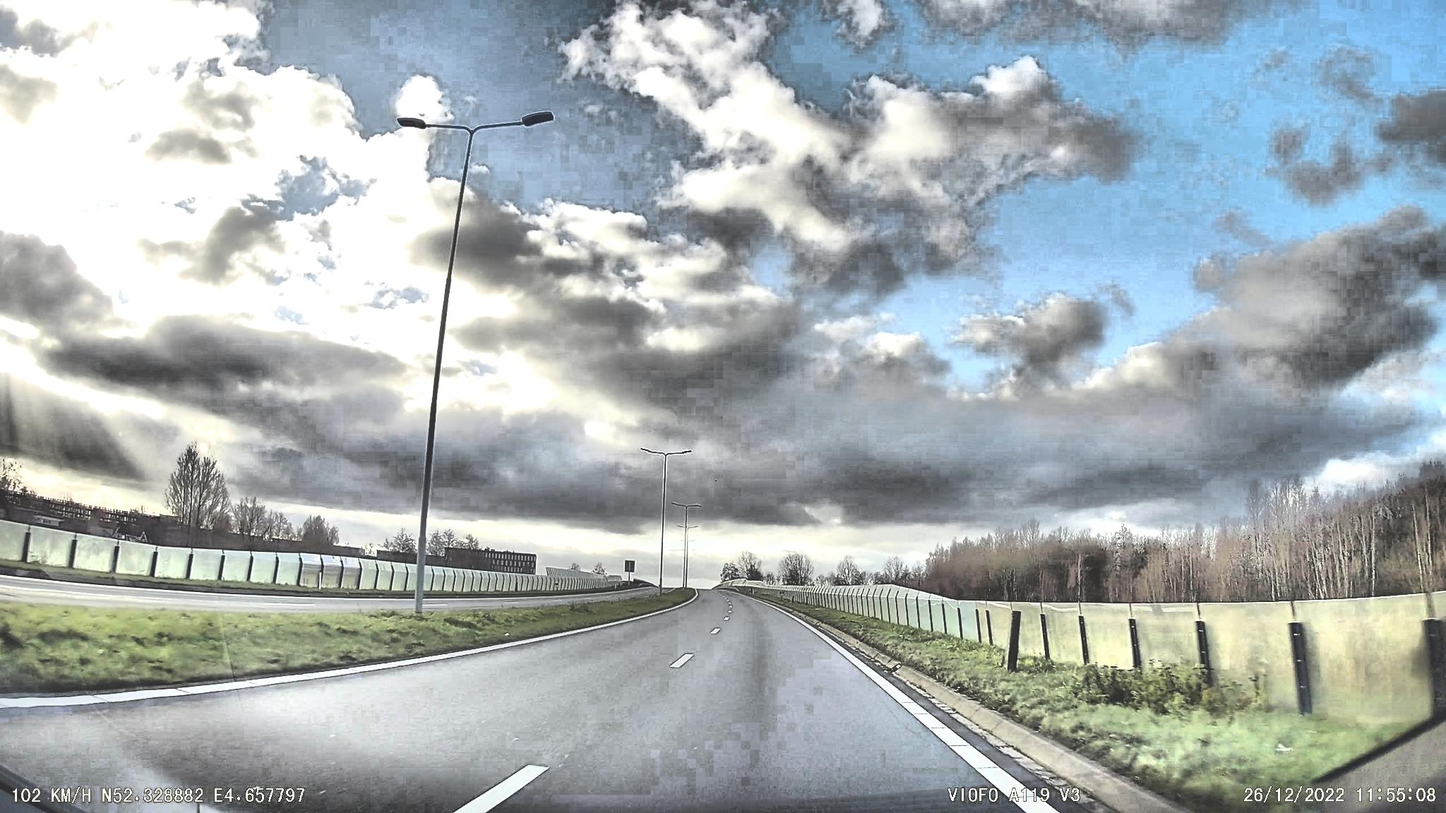Roads: (0, 591, 1190, 813)
